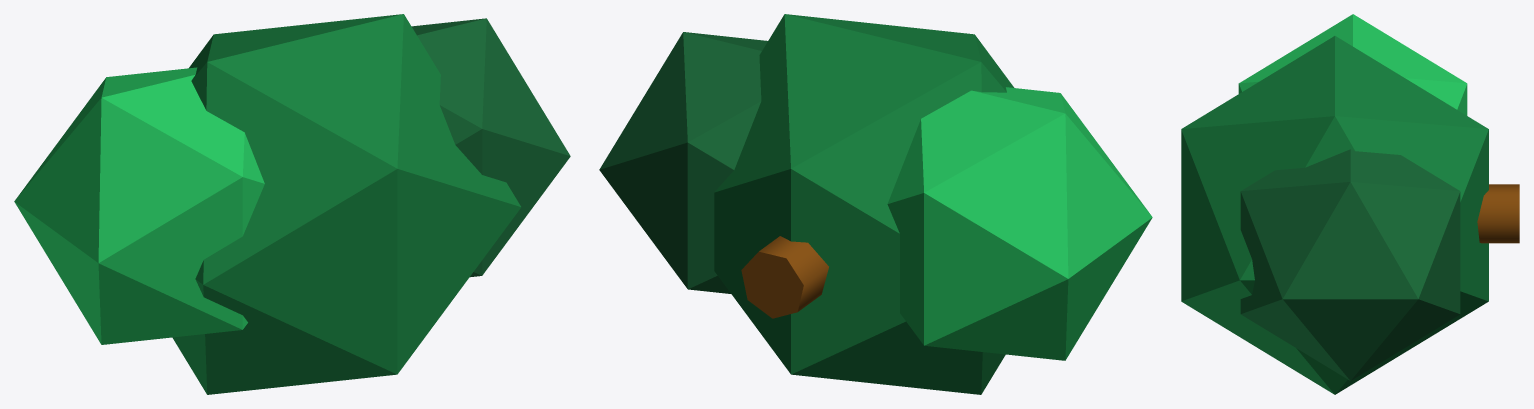
The model's file is tree.shrub.glb.
The picture shows the model from 3 angles, left to right: view 1: azimuth 30°, elevation 25°; view 2: azimuth 150°, elevation 25°; view 3: azimuth 270°, elevation 25°; orthographic projection. The views are drawn at different scales.
Visible parts, largest first — view 1: tree.shrub; view 2: tree.shrub; view 3: tree.shrub.
Boxes of the visible parts, x1,y1,x2,y2 form: tree.shrub: (14,14,570,394); tree.shrub: (599,14,1152,394); tree.shrub: (1181,14,1519,394).
Size of the model in its own units: 1.77 by 1.19 by 1.31.
